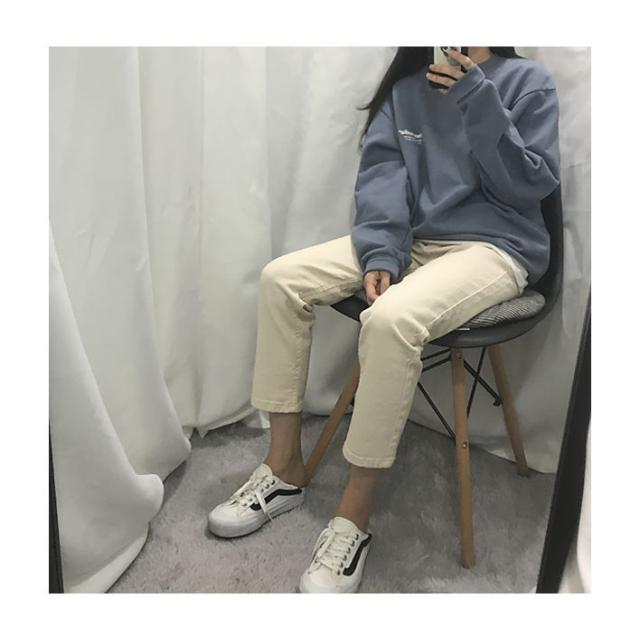cottonpants: (253, 232, 532, 469)
mtm: (354, 52, 560, 278)
